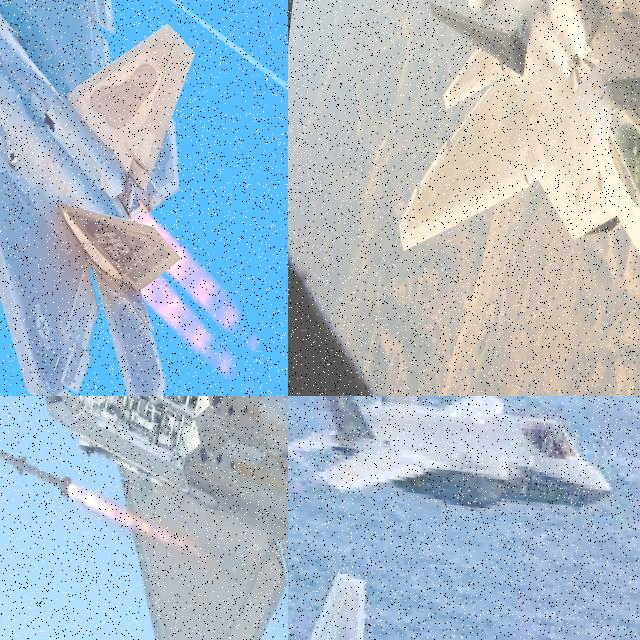F22: (387, 0, 640, 370), (0, 0, 221, 396), (0, 396, 288, 640), (288, 396, 628, 521), (288, 554, 640, 640)
